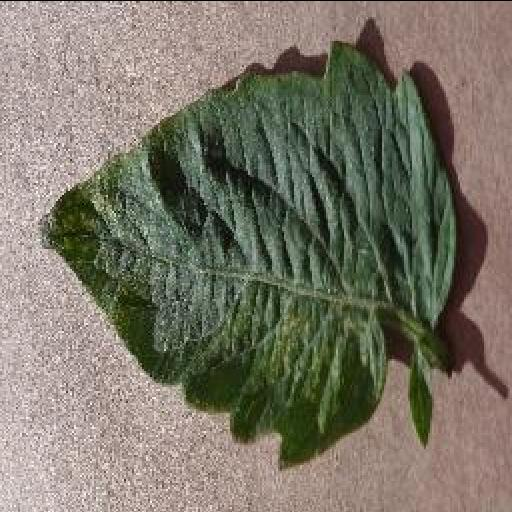disease_tomato: (44, 41, 458, 471)
